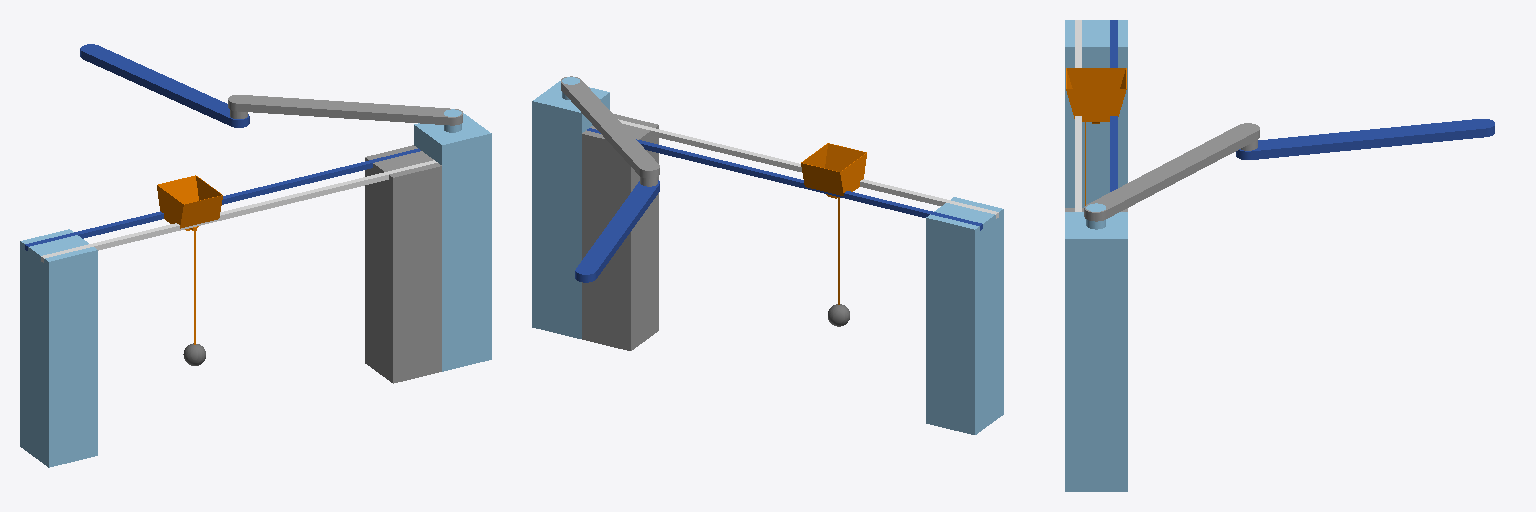
robot.urdf — manipulator_cart_pendulum:
<?xml version="1.0" ?>
<!-- Generated using onshape-to-robot -->
<!-- Onshape https://cad.onshape.com/documents/02830e503a1c2626d58e0780/w/62db7934caa01effe231f1a9/e/4d4867fcb5ca80ef5736211e -->
<robot name="manipulator_cart_pendulum">
  <!-- Link base_mount_manipulator -->
  <link name="base_mount_manipulator">
    <inertial>
      <origin xyz="0.0572879 2.62995e-09 -0.0294743" rpy="0 0 0"/>
      <mass value="1526.22"/>
      <inertia ixx="146.649" ixy="-6.9833e-14" ixz="-20.5116" iyy="1338.71" iyz="-3.60822e-16" izz="1207.93"/>
    </inertial>
    <!-- Part mount_rail_1 -->
    <visual>
      <origin xyz="-0.342742 2.62995e-09 -0.549139" rpy="0 -0 0"/>
      <geometry>
        <mesh filename="package://assets/mount_rail_1.stl"/>
      </geometry>
      <material name="mount_rail_1_material">
        <color rgba="0.615686 0.811765 0.929412 1"/>
      </material>
    </visual>
    <collision>
      <origin xyz="-0.342742 2.62995e-09 -0.549139" rpy="0 -0 0"/>
      <geometry>
        <mesh filename="package://assets/mount_rail_1.stl"/>
      </geometry>
    </collision>
    <!-- Part rail_1 -->
    <visual>
      <origin xyz="-0.342742 2.62995e-09 -0.549139" rpy="0 -0 0"/>
      <geometry>
        <mesh filename="package://assets/rail_1.stl"/>
      </geometry>
      <material name="rail_1_material">
        <color rgba="0.231373 0.380392 0.705882 1"/>
      </material>
    </visual>
    <collision>
      <origin xyz="-0.342742 2.62995e-09 -0.549139" rpy="0 -0 0"/>
      <geometry>
        <mesh filename="package://assets/rail_1.stl"/>
      </geometry>
    </collision>
    <!-- Part base_mount_manipulator -->
    <visual>
      <origin xyz="0.782258 2.62995e-09 -0.549139" rpy="0 -0 0"/>
      <geometry>
        <mesh filename="package://assets/base_mount_manipulator.stl"/>
      </geometry>
      <material name="base_mount_manipulator_material">
        <color rgba="0.615686 0.811765 0.929412 1"/>
      </material>
    </visual>
    <collision>
      <origin xyz="0.782258 2.62995e-09 -0.549139" rpy="0 -0 0"/>
      <geometry>
        <mesh filename="package://assets/base_mount_manipulator.stl"/>
      </geometry>
    </collision>
    <!-- Part mount_rail_2 -->
    <visual>
      <origin xyz="-0.342742 2.62995e-09 -0.549139" rpy="0 -0 0"/>
      <geometry>
        <mesh filename="package://assets/mount_rail_2.stl"/>
      </geometry>
      <material name="mount_rail_2_material">
        <color rgba="0.647059 0.647059 0.647059 1"/>
      </material>
    </visual>
    <collision>
      <origin xyz="-0.342742 2.62995e-09 -0.549139" rpy="0 -0 0"/>
      <geometry>
        <mesh filename="package://assets/mount_rail_2.stl"/>
      </geometry>
    </collision>
    <!-- Part rail_2 -->
    <visual>
      <origin xyz="-0.342742 2.62995e-09 -0.549139" rpy="0 -0 0"/>
      <geometry>
        <mesh filename="package://assets/rail_2.stl"/>
      </geometry>
      <material name="rail_2_material">
        <color rgba="0.917647 0.917647 0.917647 1"/>
      </material>
    </visual>
    <collision>
      <origin xyz="-0.342742 2.62995e-09 -0.549139" rpy="0 -0 0"/>
      <geometry>
        <mesh filename="package://assets/rail_2.stl"/>
      </geometry>
    </collision>
  </link>
  <!-- Link link1 -->
  <link name="link1">
    <inertial>
      <origin xyz="-0.549225 2.72753e-17 -0.0251674" rpy="0 0 0"/>
      <mass value="10.8153"/>
      <inertia ixx="0.0128988" ixy="-7.16029e-19" ixz="-0.0266598" iyy="0.981141" iyz="1.47991e-18" izz="0.983505"/>
    </inertial>
    <!-- Part link1 -->
    <visual>
      <origin xyz="0 0 -1.21437" rpy="0 -0 -5.55112e-17"/>
      <geometry>
        <mesh filename="package://assets/link1.stl"/>
      </geometry>
      <material name="link1_material">
        <color rgba="0.647059 0.647059 0.647059 1"/>
      </material>
    </visual>
    <collision>
      <origin xyz="0 0 -1.21437" rpy="0 -0 -5.55112e-17"/>
      <geometry>
        <mesh filename="package://assets/link1.stl"/>
      </geometry>
    </collision>
  </link>
  <!-- Link link2 -->
  <link name="link2">
    <inertial>
      <origin xyz="-0.502678 -8.77743e-18 -0.0190625" rpy="0 0 0"/>
      <mass value="9.69735"/>
      <inertia ixx="0.00835887" ixy="0" ixz="0" iyy="0.773334" iyz="0" izz="0.779344"/>
    </inertial>
    <!-- Part link2 -->
    <visual>
      <origin xyz="0.953 0 1.05812" rpy="3.14159 -0 0"/>
      <geometry>
        <mesh filename="package://assets/link2.stl"/>
      </geometry>
      <material name="link2_material">
        <color rgba="0.231373 0.380392 0.705882 1"/>
      </material>
    </visual>
    <collision>
      <origin xyz="0.953 0 1.05812" rpy="3.14159 -0 0"/>
      <geometry>
        <mesh filename="package://assets/link2.stl"/>
      </geometry>
    </collision>
  </link>
  <!-- Joint from link1 to link2 -->
  <joint name="jt_link1_link2" type="revolute">
    <origin xyz="-0.953 1.11022e-16 -0.118125" rpy="3.14159 -0 -0.66515"/>
    <parent link="link1"/>
    <child link="link2"/>
    <axis xyz="0 0 1"/>
    <limit effort="10" velocity="10" lower="-3.141592653589793" upper="3.141592653589793"/>
  </joint>
  <!-- Joint from base_mount_manipulator to link1 -->
  <joint name="jt_mount_link1" type="revolute">
    <origin xyz="0.782258 2.62995e-09 0.627111" rpy="0 -0 -0.678409"/>
    <parent link="base_mount_manipulator"/>
    <child link="link1"/>
    <axis xyz="0 0 1"/>
    <limit effort="10" velocity="10" lower="-3.141592653589793" upper="3.141592653589793"/>
  </joint>
  <!-- Link cart -->
  <link name="cart">
    <inertial>
      <origin xyz="0.07 -0.013772 -0.1" rpy="0 0 0"/>
      <mass value="1.33415"/>
      <inertia ixx="0.00938506" ixy="0" ixz="0" iyy="0.0115655" iyz="0" izz="0.00924538"/>
    </inertial>
    <!-- Part cart -->
    <visual>
      <origin xyz="0.07 1 0" rpy="1.5708 1.5708 0"/>
      <geometry>
        <mesh filename="package://assets/cart.stl"/>
      </geometry>
      <material name="cart_material">
        <color rgba="0.972549 0.529412 0.00392157 1"/>
      </material>
    </visual>
    <collision>
      <origin xyz="0.07 1 0" rpy="1.5708 1.5708 0"/>
      <geometry>
        <mesh filename="package://assets/cart.stl"/>
      </geometry>
    </collision>
  </link>
  <!-- Link pendulum -->
  <link name="pendulum">
    <inertial>
      <origin xyz="-1.24655e-09 0.604326 -0.0578763" rpy="0 0 0"/>
      <mass value="4.48985"/>
      <inertia ixx="0.0146803" ixy="-1.66939e-09" ixz="2.83631e-11" iyy="0.00446751" iyz="0.000335541" izz="0.0146595"/>
    </inertial>
    <!-- Part pendulum -->
    <visual>
      <origin xyz="-0.1 0.9406 -0.03" rpy="1.5708 -0 0"/>
      <geometry>
        <mesh filename="package://assets/pendulum.stl"/>
      </geometry>
      <material name="pendulum_material">
        <color rgba="0.972549 0.529412 0.00392157 1"/>
      </material>
    </visual>
    <collision>
      <origin xyz="-0.1 0.9406 -0.03" rpy="1.5708 -0 0"/>
      <geometry>
        <mesh filename="package://assets/pendulum.stl"/>
      </geometry>
    </collision>
    <!-- Part pendulum_bob -->
    <visual>
      <origin xyz="-0.1 0.9406 -0.03" rpy="1.5708 -0 0"/>
      <geometry>
        <mesh filename="package://assets/pendulum_bob.stl"/>
      </geometry>
      <material name="pendulum_bob_material">
        <color rgba="0.498039 0.498039 0.498039 1"/>
      </material>
    </visual>
    <collision>
      <origin xyz="-0.1 0.9406 -0.03" rpy="1.5708 -0 0"/>
      <geometry>
        <mesh filename="package://assets/pendulum_bob.stl"/>
      </geometry>
    </collision>
  </link>
  <!-- Joint from cart to pendulum -->
  <joint name="jt_cart_pendulum" type="revolute">
    <origin xyz="0.085 0.0594 -0.1" rpy="-0 1.5708 0"/>
    <parent link="cart"/>
    <child link="pendulum"/>
    <axis xyz="0 0 1"/>
    <limit effort="10" velocity="10" lower="-3.141592653589793" upper="3.141592653589793"/>
  </joint>
  <!-- Joint from base_mount_manipulator to cart -->
  <joint name="jt_rail_cart" type="prismatic">
    <origin xyz="-0.653506 -0.07 0.450861" rpy="-1.5708 -0 1.5708"/>
    <parent link="base_mount_manipulator"/>
    <child link="cart"/>
    <axis xyz="0 0 1"/>
    <limit effort="10" velocity="10" lower="-1" upper="1"/>
  </joint>
</robot>

--- What the picture shows (computed from the rendered views, not written in the file) ---
The picture shows the robot from 3 angles, left to right: view 1: azimuth 30°, elevation 25°; view 2: azimuth 150°, elevation 25°; view 3: azimuth 270°, elevation 25°; orthographic projection.
Robot: manipulator_cart_pendulum — 5 links, 4 joints (3 revolute, 1 prismatic); root link base_mount_manipulator; default pose: all joints at 0.
Visible links, largest first — view 1: base_mount_manipulator, link1, link2, cart, pendulum; view 2: base_mount_manipulator, link1, link2, cart, pendulum; view 3: base_mount_manipulator, link2, link1, cart.
Link boxes in pixels (bbox=[...]): base_mount_manipulator: bbox=[20, 109, 491, 467]; link1: bbox=[228, 95, 462, 125]; link2: bbox=[80, 44, 249, 127]; cart: bbox=[157, 175, 222, 230]; pendulum: bbox=[183, 227, 205, 365]; base_mount_manipulator: bbox=[532, 77, 1003, 434]; link1: bbox=[561, 76, 659, 186]; link2: bbox=[575, 180, 659, 282]; cart: bbox=[801, 143, 866, 198]; pendulum: bbox=[828, 195, 849, 326]; base_mount_manipulator: bbox=[1065, 20, 1127, 491]; link2: bbox=[1236, 119, 1494, 159]; link1: bbox=[1084, 123, 1259, 221]; cart: bbox=[1066, 68, 1126, 123].
Bounding box of the posed robot: 2.25 × 1.7 × 1.18 m (x, y, z).
10 mesh visuals loaded from 10 distinct referenced files (10 binary STL).